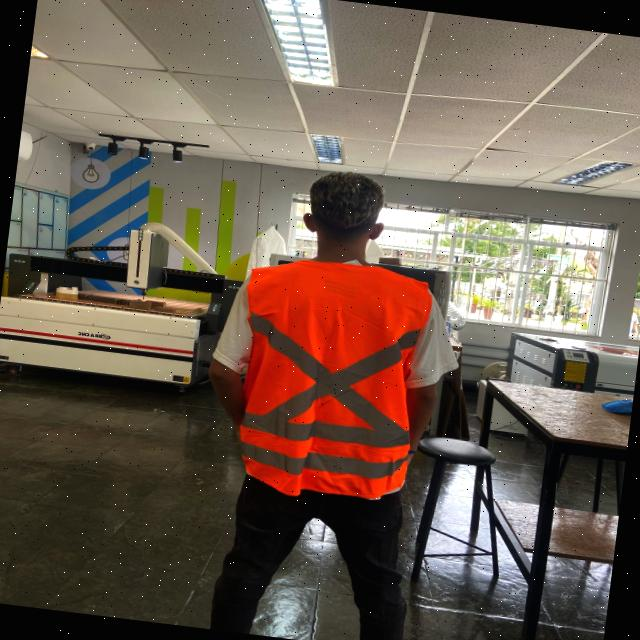COLETE: (236, 255, 438, 501)
